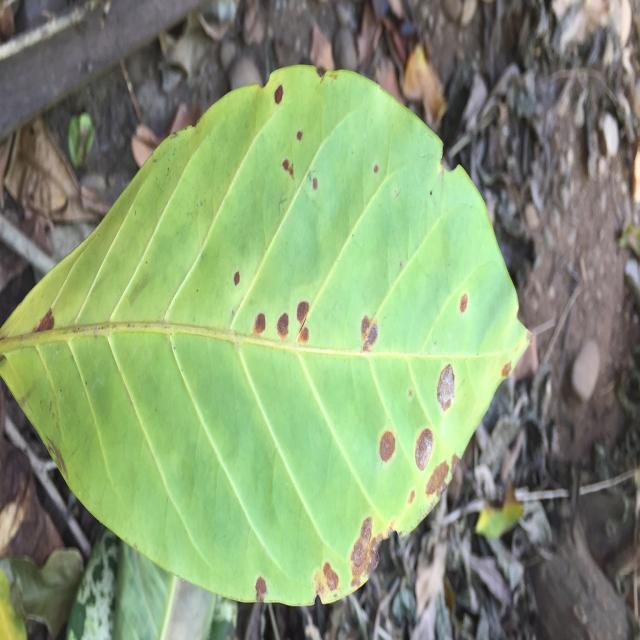Enfermedad-Mancha-de-hierro: (0, 65, 528, 606)
